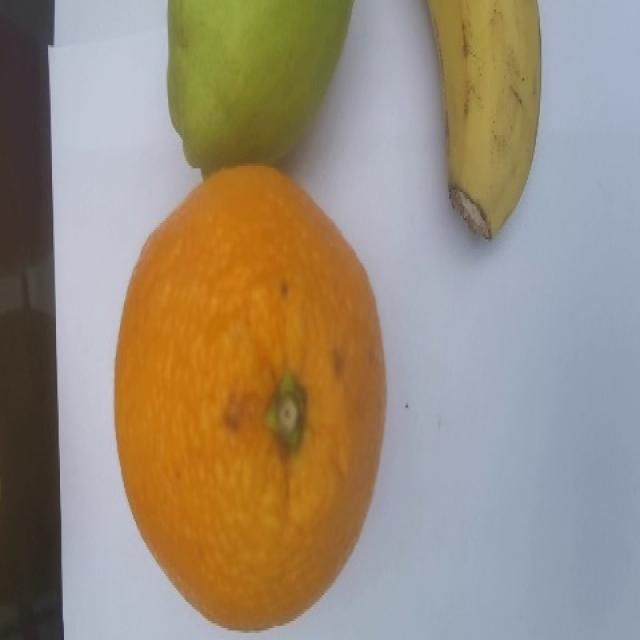Banana: (424, 0, 542, 240)
Orange: (112, 163, 387, 631)
